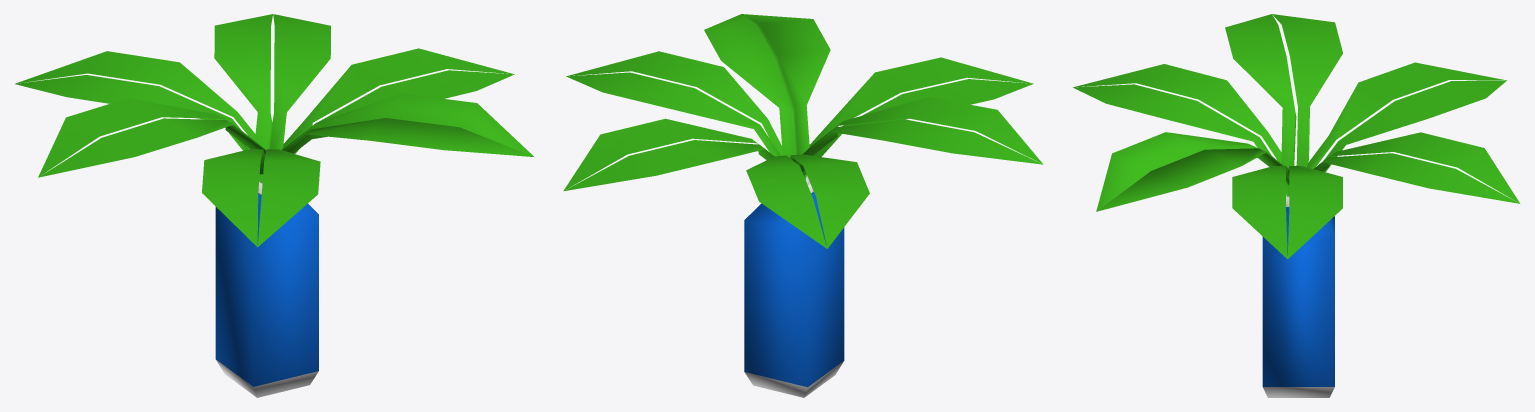
Rendered from bottle1.glb.
3 views of the same model, side by side, from view 1: azimuth 30°, elevation 25°; view 2: azimuth 150°, elevation 25°; view 3: azimuth 270°, elevation 25° (orthographic). The views are drawn at different scales.
Parts seen in each view (by area): view 1: Cube; view 2: Cube; view 3: Cube.
Boxes of the visible parts, x1,y1,x2,y2 form: Cube: (15, 14, 533, 397); Cube: (563, 14, 1043, 397); Cube: (1073, 14, 1520, 397).
Bounding box in the file's own units: 48.17 × 27.76 × 40.46.
